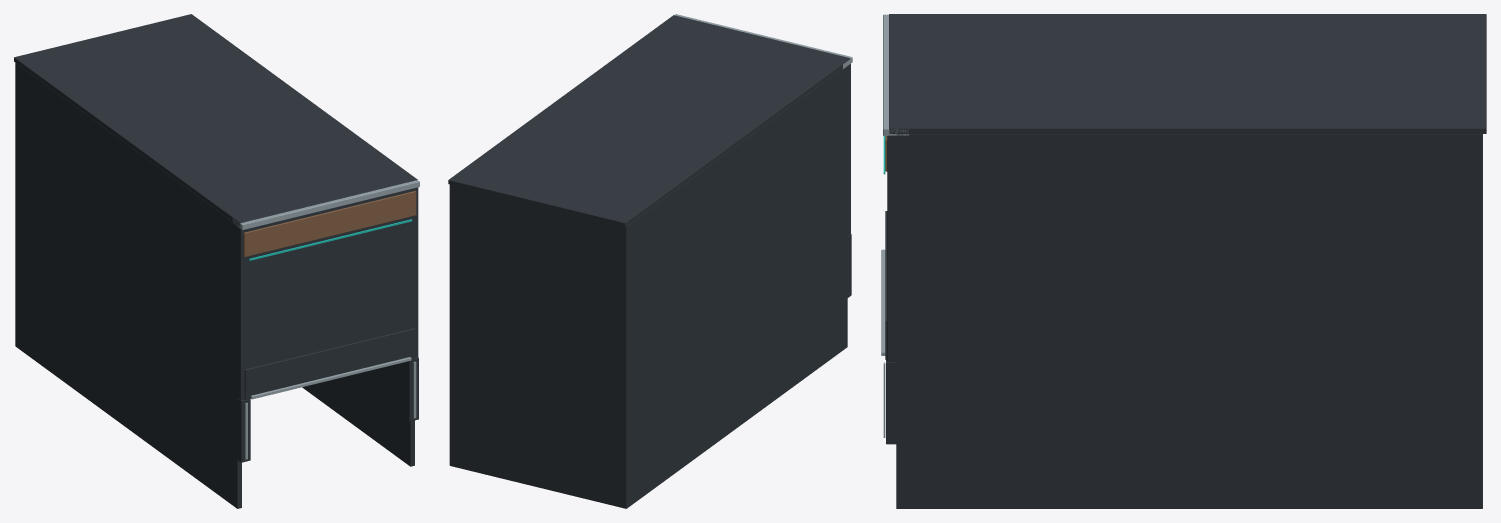
File: BowlingMachineCover.fbx
3 renders of one model, left to right at view 1: azimuth 30°, elevation 25°; view 2: azimuth 150°, elevation 25°; view 3: azimuth 270°, elevation 25°, orthographic. The views are drawn at different scales.
Parts seen in each view (by area): view 1: MachineCover; view 2: MachineCover; view 3: MachineCover.
Part boxes in pixels (x1=…): MachineCover: x1=14, y1=14, x2=419, y2=508; MachineCover: x1=448, y1=14, x2=852, y2=508; MachineCover: x1=881, y1=14, x2=1486, y2=508.
Size of the model in its own units: 186 by 288 by 415.
